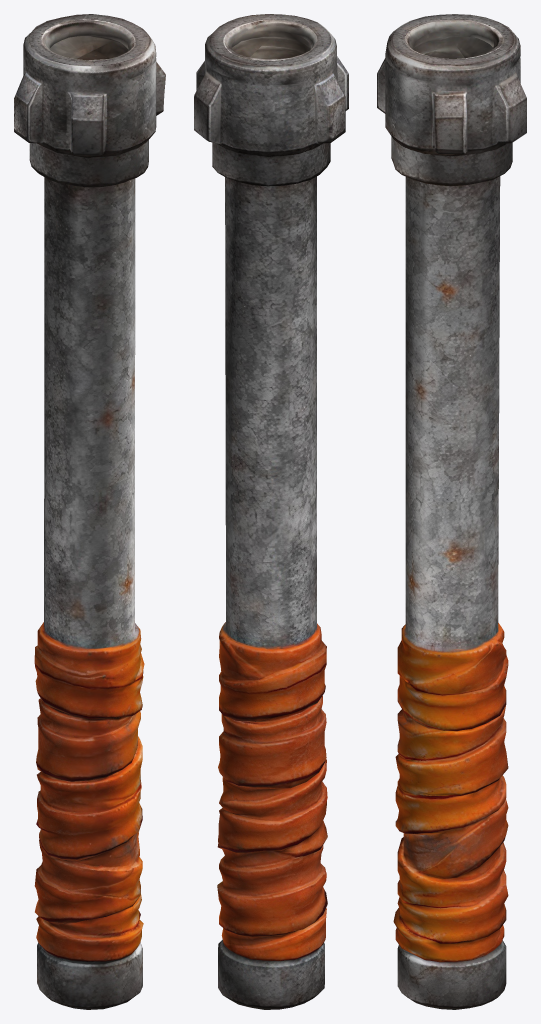
The model's file is sword_bronze.fbx.
3 renders of one model, left to right at view 1: azimuth 30°, elevation 25°; view 2: azimuth 150°, elevation 25°; view 3: azimuth 270°, elevation 25°, orthographic.
Visible parts, largest first — view 1: sword_bronze; view 2: sword_bronze; view 3: sword_bronze.
Boxes of the visible parts, bbox=[...] form: sword_bronze: bbox=[14, 14, 165, 1009]; sword_bronze: bbox=[194, 14, 348, 1009]; sword_bronze: bbox=[377, 14, 526, 1009].
Size of the model in its own units: 0.1204 by 0.7994 by 0.1142.
